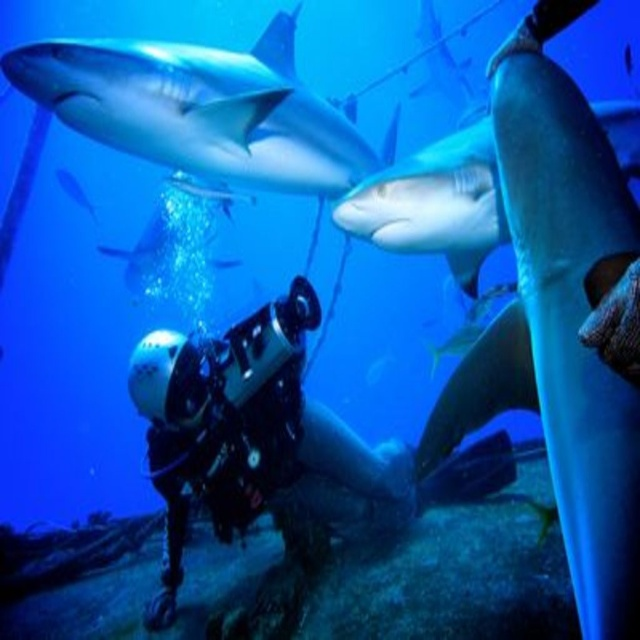Shark: (0, 0, 395, 182), (333, 84, 638, 297)
